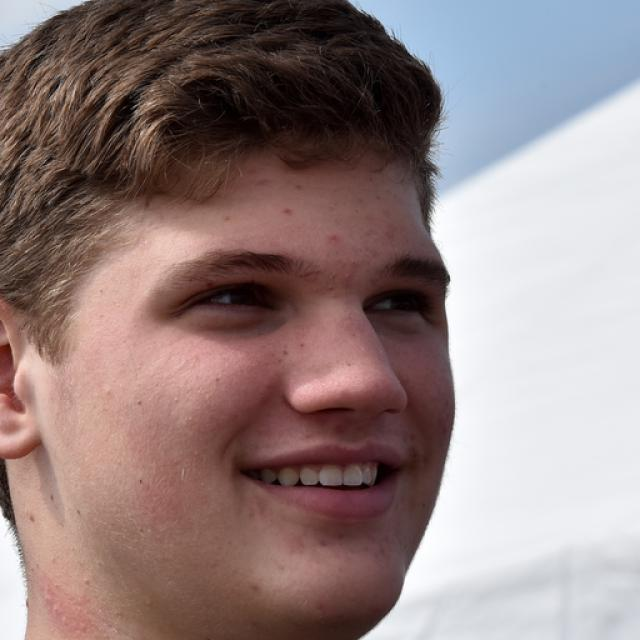Acne: (276, 195, 302, 223), (321, 229, 349, 252)
